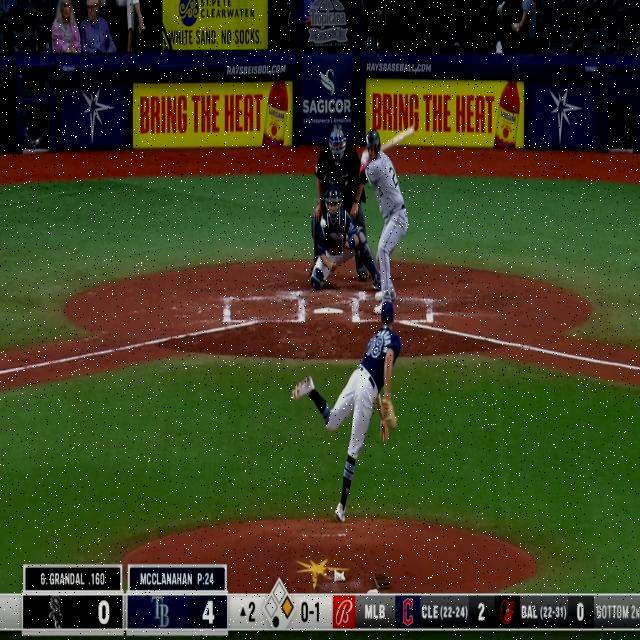baseball: (321, 218, 326, 229)
